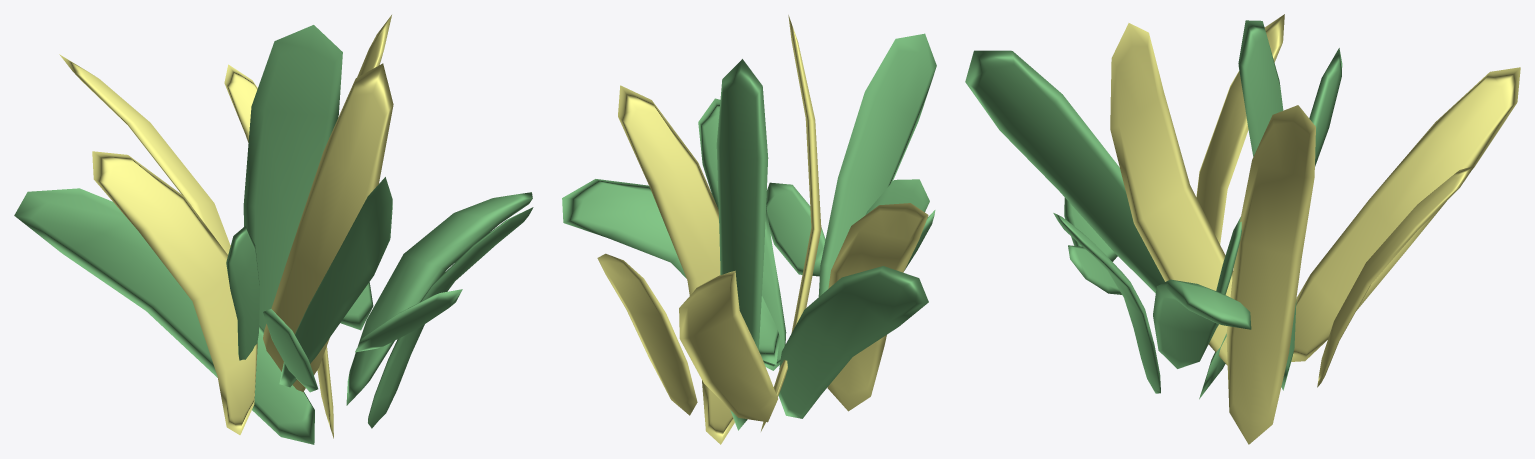
The model's file is Grass.fbx.
3 renders of one model, left to right at view 1: azimuth 30°, elevation 25°; view 2: azimuth 150°, elevation 25°; view 3: azimuth 270°, elevation 25°, orthographic. The views are drawn at different scales.
Parts seen in each view (by area): view 1: Cube.012, Cube.015, Cube.002, Cube.010, Cube.011, Cube.014, Cube.009, Cube.013, Cube.006, Cube.008, Cube.007, Cube.003 (+2 smaller); view 2: Cube.014, Cube.015, Cube.012, Cube.003, Cube.009, Cube.002, Cube.011, Cube.004, Cube.008, Cube.010, Cube.013, Cube.006; view 3: Cube.003, Cube.010, Cube.009, Cube.014, Cube.011, Cube.002, Cube.012, Cube.004, Cube.013, Cube.015, Cube.008, Cube.007 (+1 smaller).
Boxes of the visible parts, x1,y1,x2,y2 form: Cube.012: (243,25,342,330); Cube.015: (14,188,314,444); Cube.002: (92,151,257,434); Cube.010: (263,63,393,391); Cube.011: (346,192,532,405); Cube.014: (279,177,392,387); Cube.009: (59,54,230,254); Cube.013: (368,207,533,428); Cube.006: (226,225,259,360); Cube.008: (355,289,462,352); Cube.007: (263,309,318,392); Cube.003: (317,15,391,438); Cube.014: (818,33,936,296); Cube.015: (778,266,928,418); Cube.012: (716,59,768,430); Cube.003: (618,85,734,444); Cube.009: (679,270,777,422); Cube.002: (827,203,928,411); Cube.011: (562,179,779,364); Cube.004: (597,253,697,415); Cube.008: (766,182,825,276); Cube.010: (761,15,821,431); Cube.013: (698,98,786,370); Cube.006: (865,179,929,214); Cube.003: (1226,105,1315,444); Cube.010: (1110,23,1233,365); Cube.009: (1291,67,1520,361); Cube.014: (965,50,1164,293); Cube.011: (1153,279,1251,368); Cube.002: (1196,14,1284,244); Cube.012: (1238,20,1296,390); Cube.004: (1317,166,1474,387); Cube.013: (1053,213,1160,393); Cube.015: (1199,48,1342,399); Cube.008: (1068,245,1121,294); Cube.007: (1064,197,1117,261).
Bounding box in the file's own units: 166 × 147 × 178.
